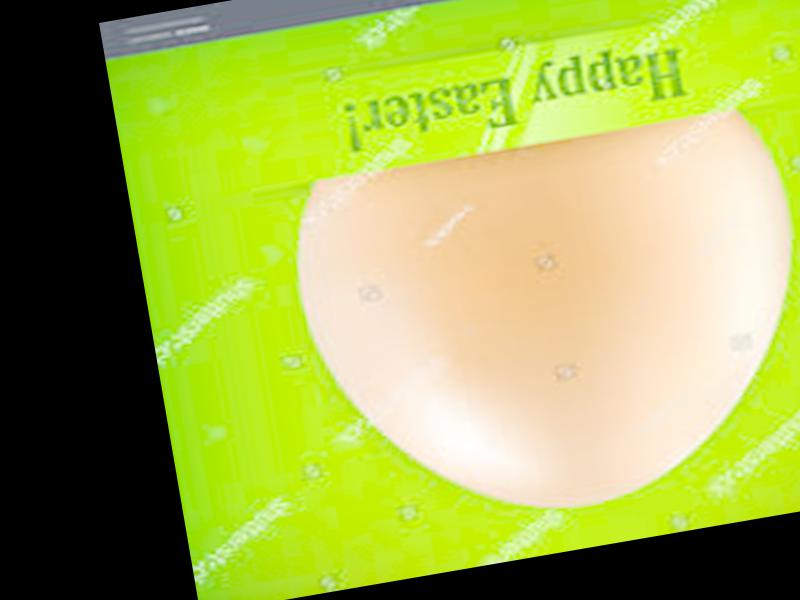Eggs: (283, 104, 800, 546)
